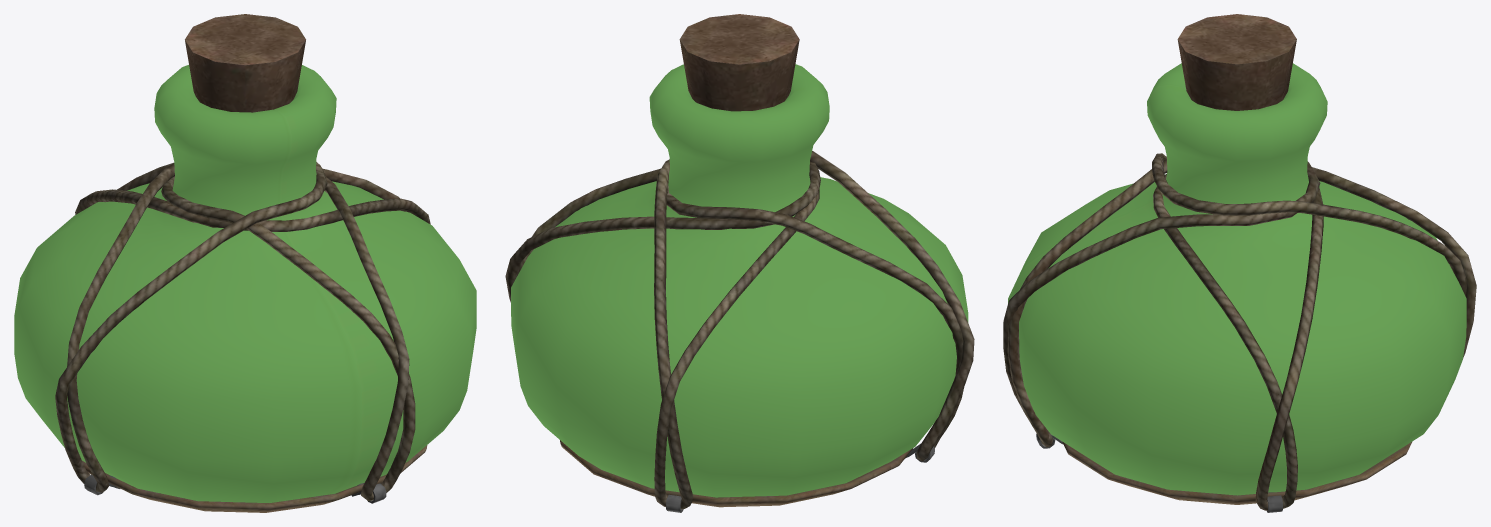
The model's file is fire_flask.glb.
3 renders of one model, left to right at view 1: azimuth 30°, elevation 25°; view 2: azimuth 150°, elevation 25°; view 3: azimuth 270°, elevation 25°, orthographic.
Visible parts, largest first — view 1: Flask_mesh, rope, Corc, Flask_holder; view 2: Flask_mesh, rope, Corc, Flask_holder; view 3: Flask_mesh, rope, Corc, Flask_holder.
Boxes of the visible parts, x1,y1,x2,y2 form: Flask_mesh: (14,65,476,502); rope: (55,162,430,500); Corc: (185,14,305,112); Flask_holder: (82,445,427,512); Flask_mesh: (511,64,968,497); rope: (505,151,974,509); Corc: (679,14,799,111); Flask_holder: (560,440,934,512); Flask_mesh: (1008,63,1466,495); rope: (1003,153,1476,510); Corc: (1177,14,1296,110); Flask_holder: (1036,433,1411,512).
Size of the model in its own units: 0.8058 by 0.7588 by 0.7943.
Materials: 3 (3 with a texture image).
